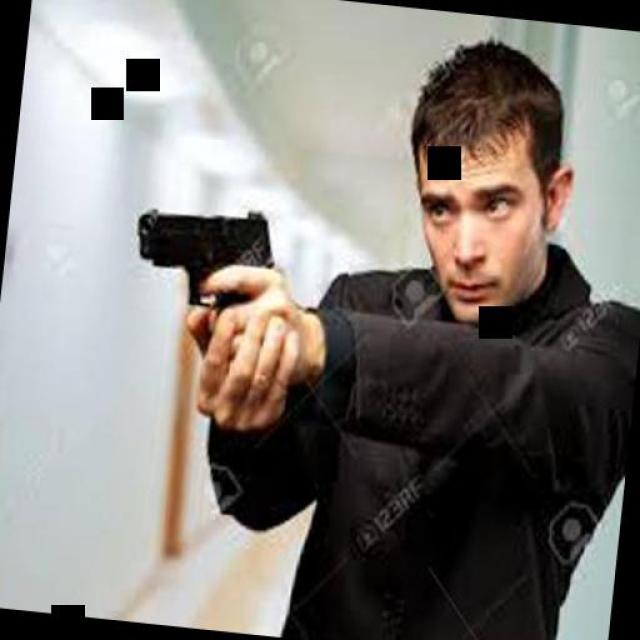gun: (124, 188, 281, 324)
